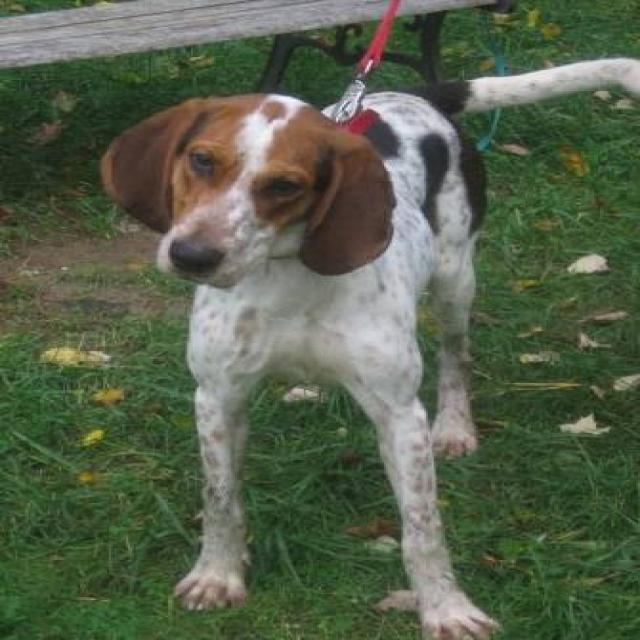Dog: (75, 80, 398, 310)
